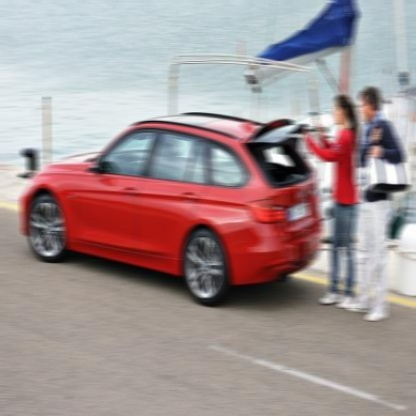Vehicle: (21, 110, 324, 308)
